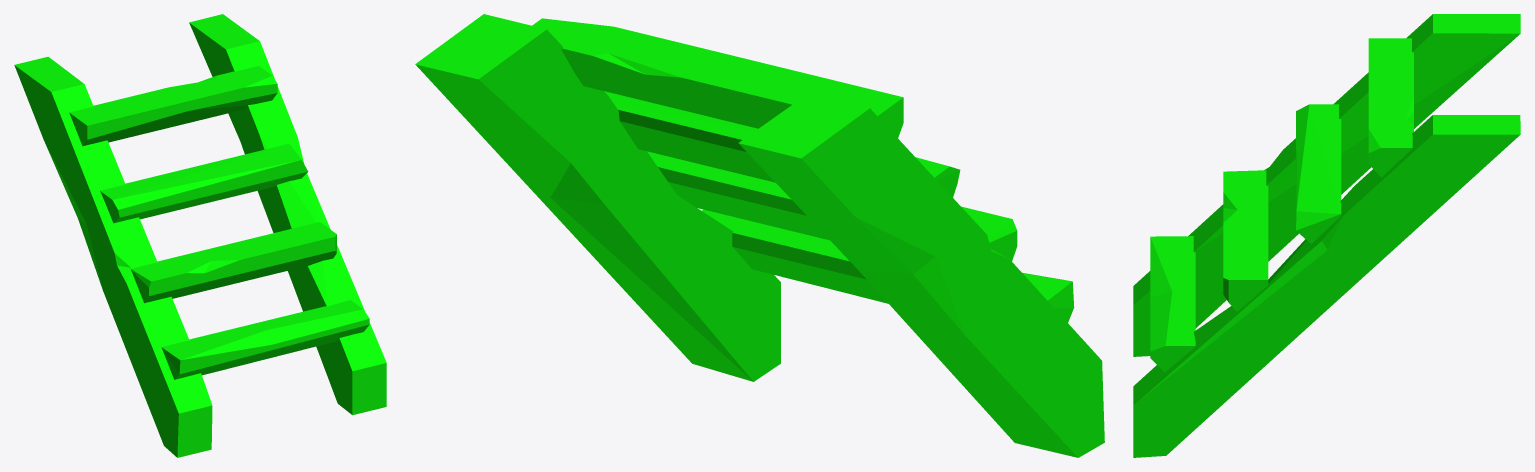
The model's file is SM_Stairs_Wood_Regular_Bottom_1m_Fantasy.fbx.
3 views of the same model, side by side, from view 1: azimuth 30°, elevation 25°; view 2: azimuth 150°, elevation 25°; view 3: azimuth 270°, elevation 25° (orthographic). The views are drawn at different scales.
Parts seen in each view (by area): view 1: stairs-wood-regular-bottom-1m-fantasy; view 2: stairs-wood-regular-bottom-1m-fantasy; view 3: stairs-wood-regular-bottom-1m-fantasy.
Boxes of the visible parts, bbox=[...] form: stairs-wood-regular-bottom-1m-fantasy: bbox=[14, 14, 386, 457]; stairs-wood-regular-bottom-1m-fantasy: bbox=[415, 14, 1104, 457]; stairs-wood-regular-bottom-1m-fantasy: bbox=[1133, 14, 1520, 457].
Bounding box in the file's own units: 0.9826 × 1.23 × 1.33.
